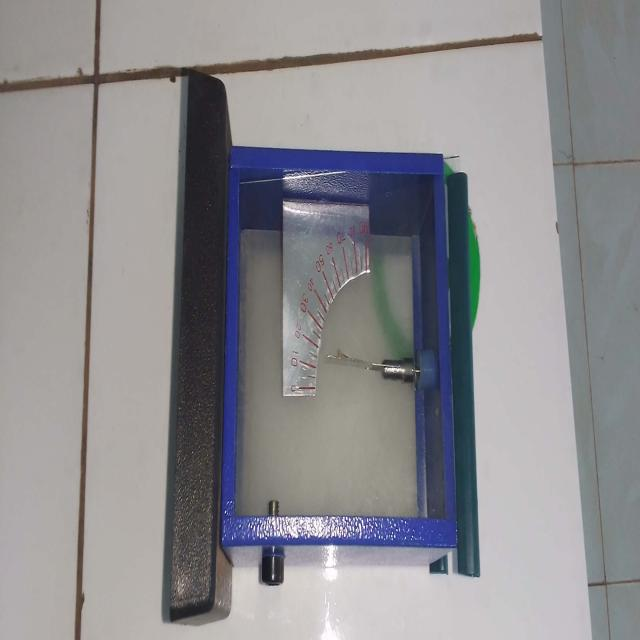Electroscope: (156, 49, 484, 640)
